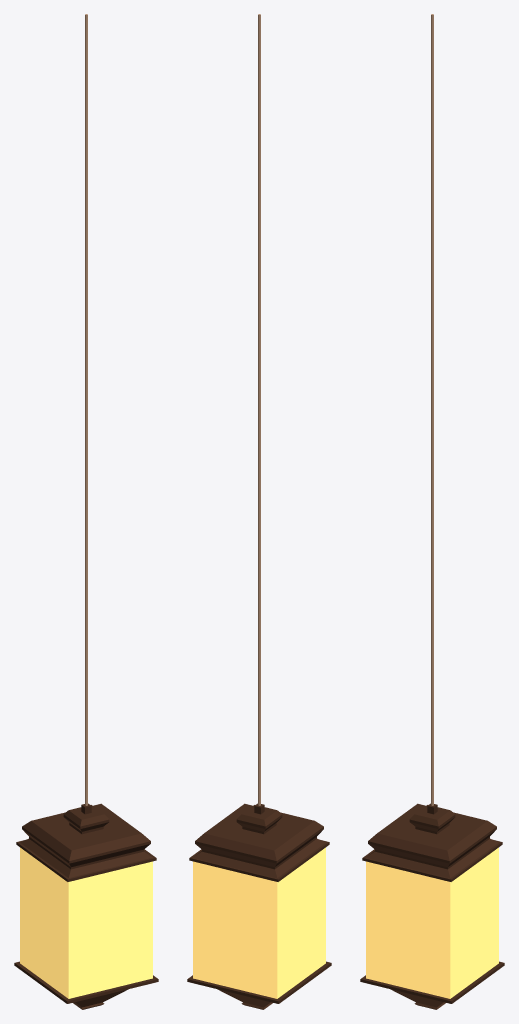
Rendered from Luce 4 Gialla.fbx.
3 views of the same model, side by side, from view 1: azimuth 30°, elevation 25°; view 2: azimuth 150°, elevation 25°; view 3: azimuth 330°, elevation 25° (orthographic).
Visible parts, largest first — view 1: Cube.024; view 2: Cube.024; view 3: Cube.024.
Boxes of the visible parts, left/top/right/bottom form: Cube.024: left=14, top=14, right=158, bottom=1009; Cube.024: left=187, top=14, right=331, bottom=1009; Cube.024: left=360, top=14, right=504, bottom=1009.
Bounding box in the file's own units: 23.54 × 244 × 23.54.
